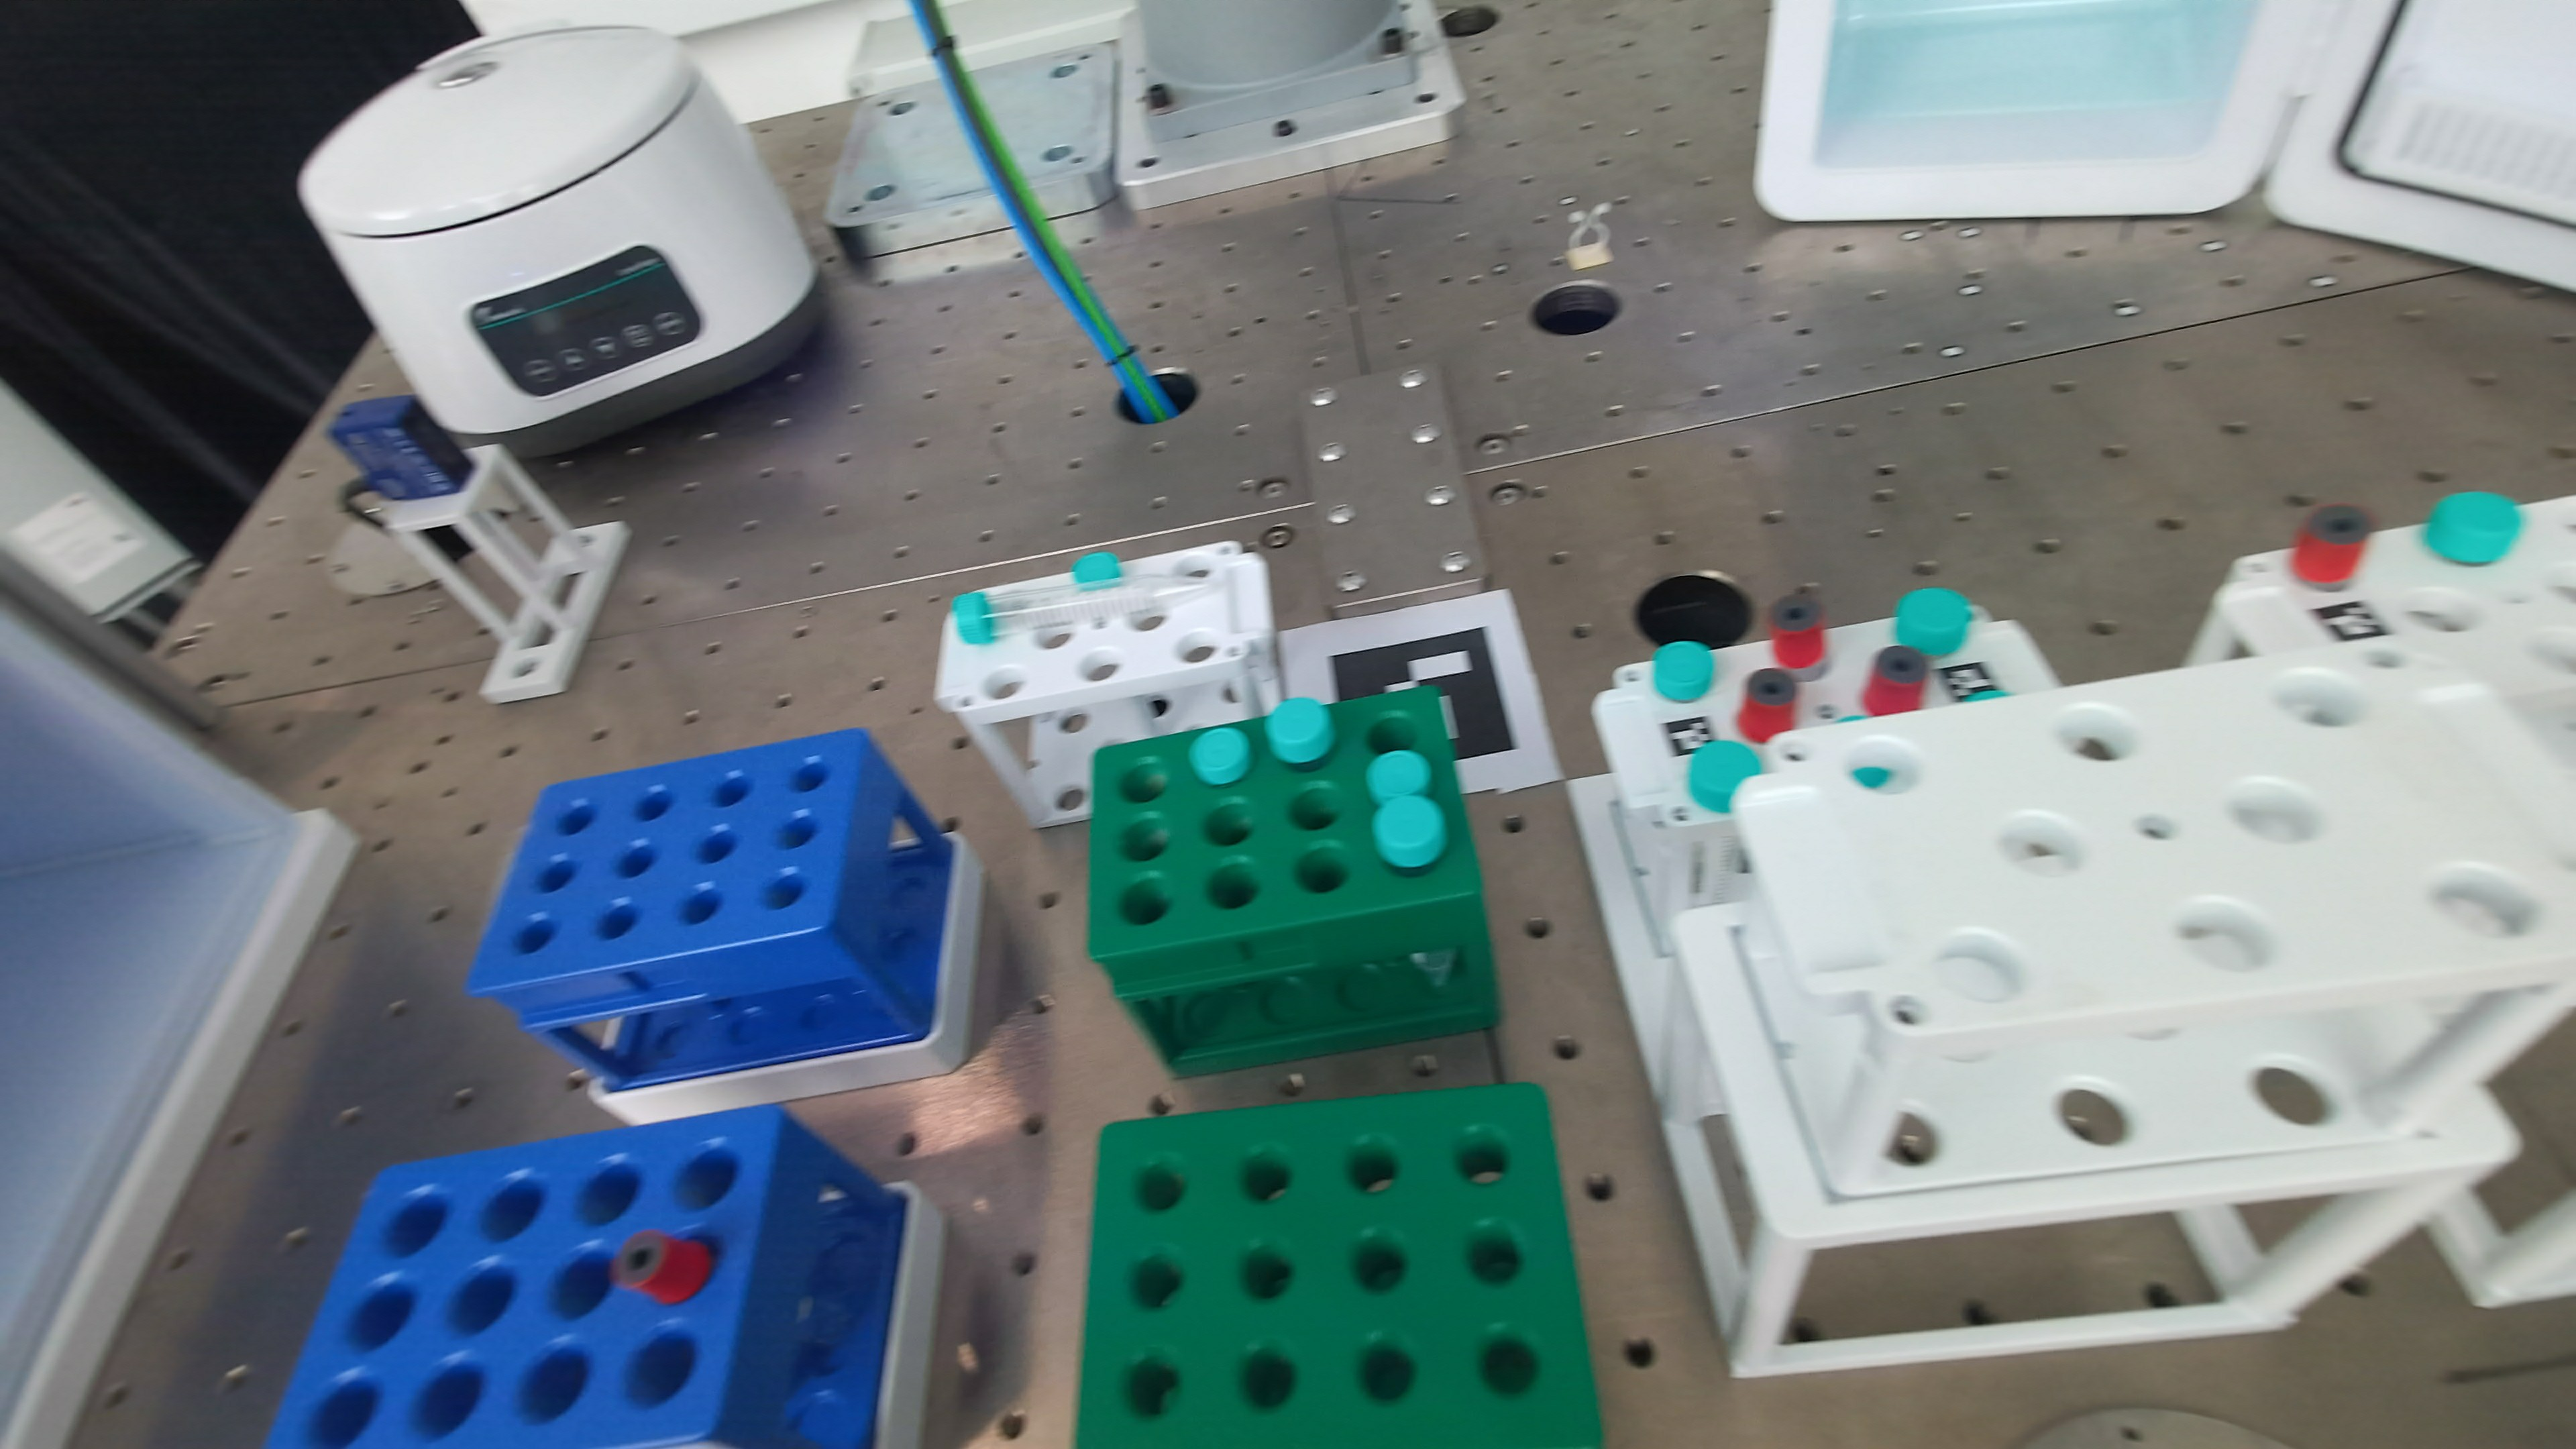10ML_centrifuge_tube: (952, 543, 1265, 646), (2424, 492, 2523, 566), (1373, 794, 1447, 870), (1688, 740, 1762, 814), (1895, 587, 1973, 656), (1265, 697, 1336, 766)
10ML_sorting_tube_rack: (269, 1106, 906, 1447), (467, 731, 952, 1090)
5ML_centrifuge_tube: (1652, 640, 1716, 702), (1366, 748, 1431, 805), (1189, 727, 1251, 786), (1072, 550, 1122, 587)
5ML_sorting_tube_rack: (1076, 1086, 1601, 1447), (1088, 688, 1499, 1074)
blood_tube: (610, 1230, 713, 1304), (2289, 504, 2373, 584), (1861, 644, 1928, 717), (1736, 667, 1798, 743), (1769, 594, 1826, 671)
centrifuge_close: (299, 27, 823, 458)
dispensing_tube_rack: (1573, 499, 2576, 1375), (936, 547, 1281, 826)
refrigerator_open: (1755, 0, 2576, 290)
sorting_tube_rack_base: (591, 839, 984, 1123), (872, 1182, 947, 1449)
tube_rack_storage_cabinet: (0, 600, 352, 1444)
